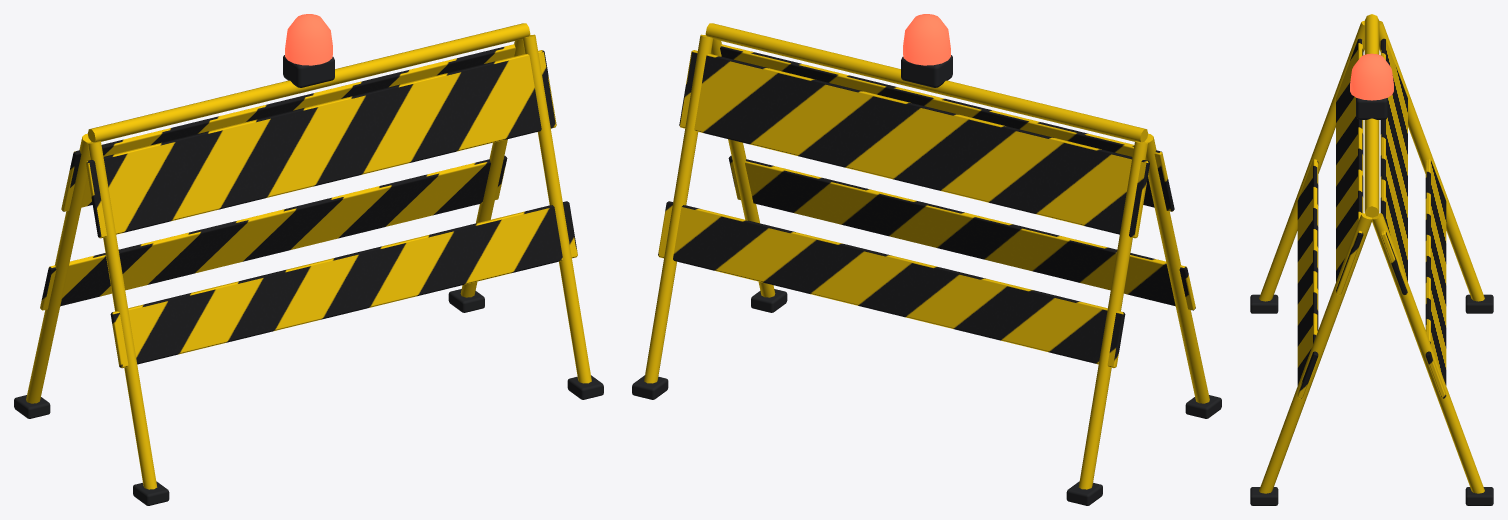
File: construction_barrier.fbx
The picture shows the model from 3 angles, left to right: view 1: azimuth 30°, elevation 25°; view 2: azimuth 150°, elevation 25°; view 3: azimuth 270°, elevation 25°; orthographic projection. The views are drawn at different scales.
Visible parts, largest first — view 1: construction_barrier; view 2: construction_barrier; view 3: construction_barrier.
Boxes of the visible parts, left/top/right/bottom form: construction_barrier: left=14, top=14, right=603, bottom=505; construction_barrier: left=632, top=14, right=1221, bottom=505; construction_barrier: left=1250, top=14, right=1493, bottom=505.
Bounding box in the file's own units: 1.2 × 0.97 × 0.61.
5 materials, 1 textured.
